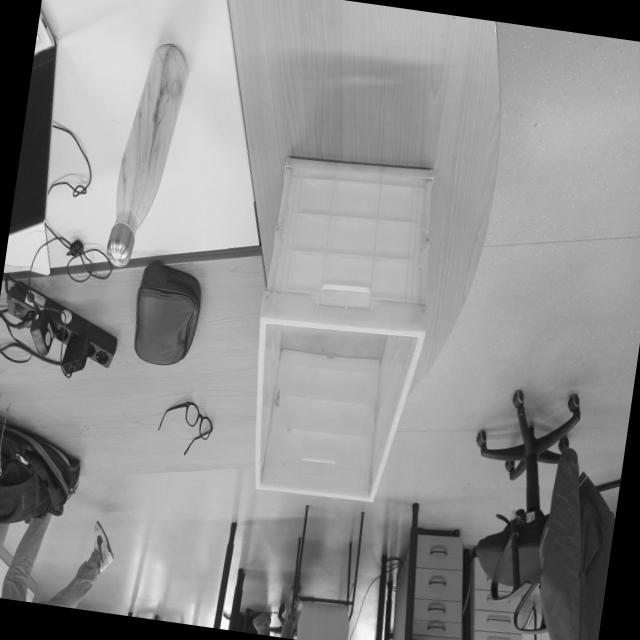box: (230, 110, 459, 531)
